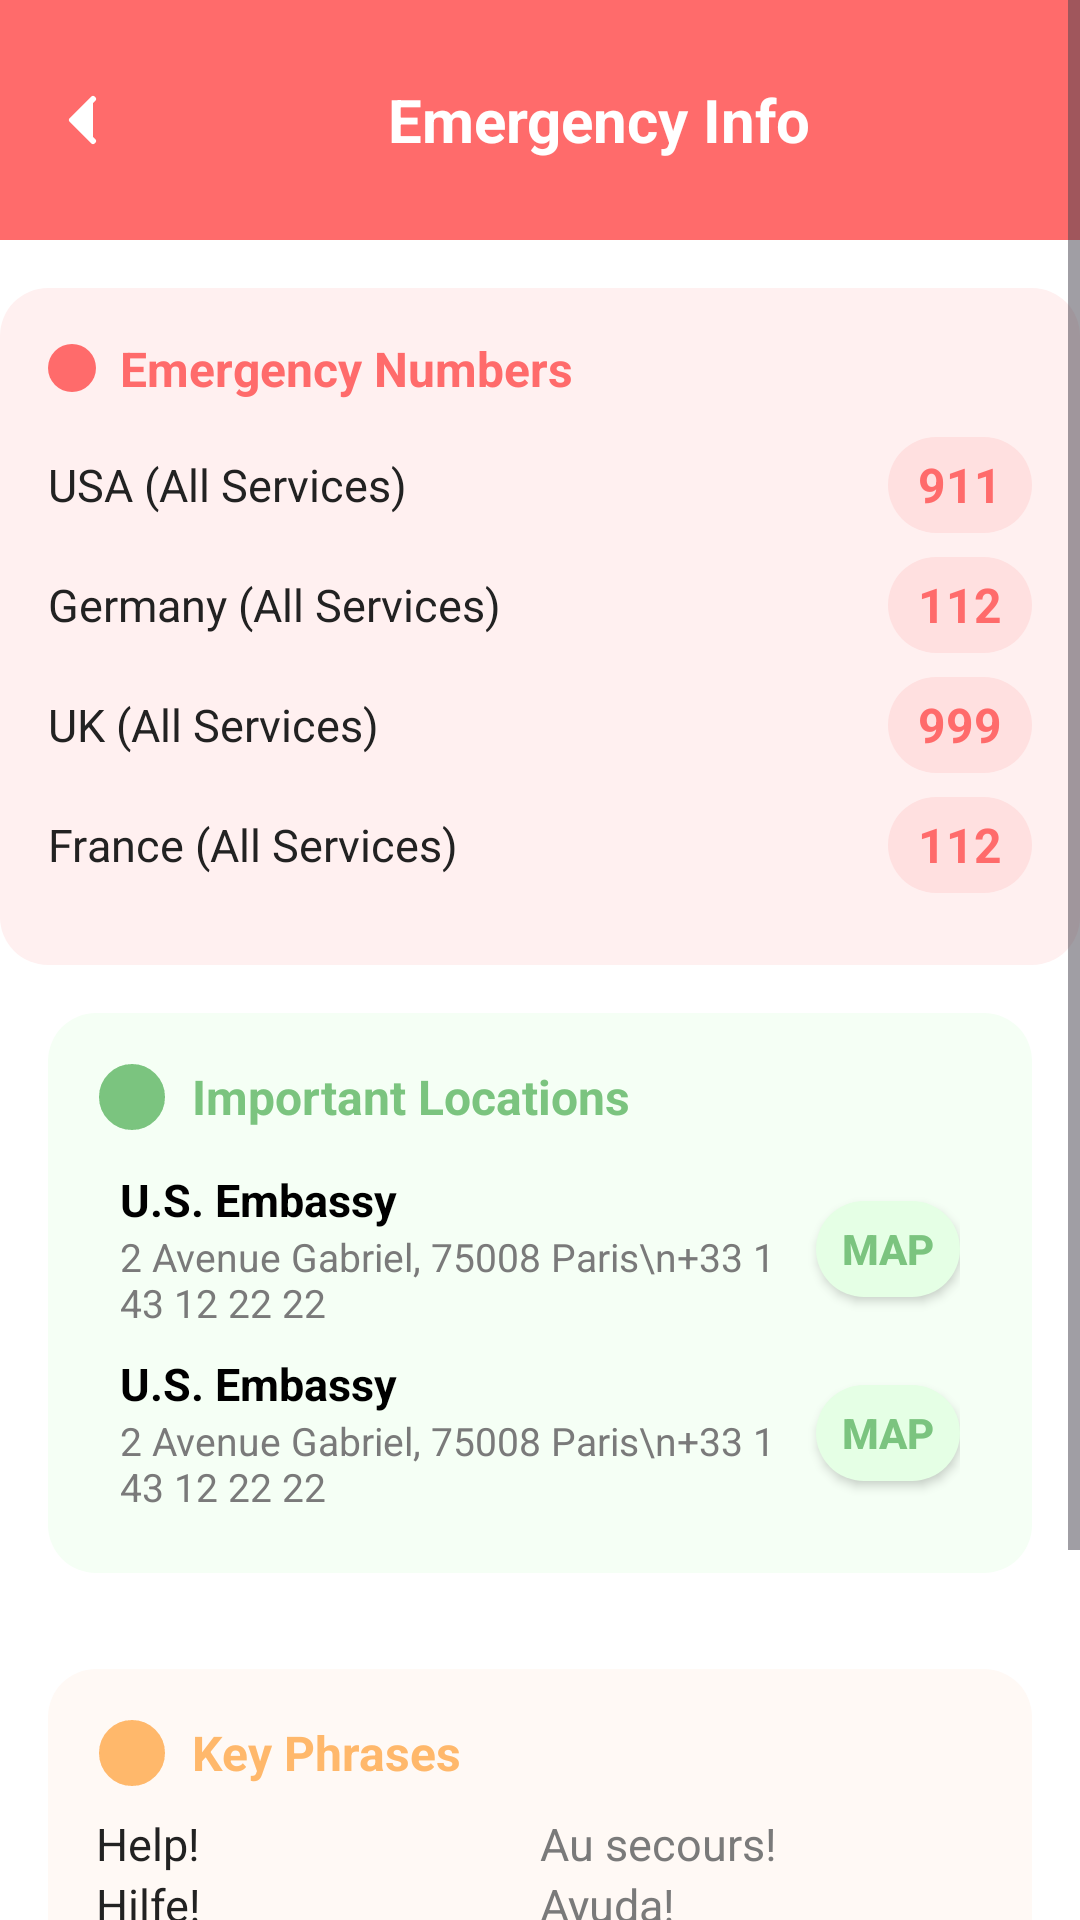

Where to tap for icons on this 1080 × 1920 app screen, as (x=x, y=y):
Back: (x=82, y=120)
